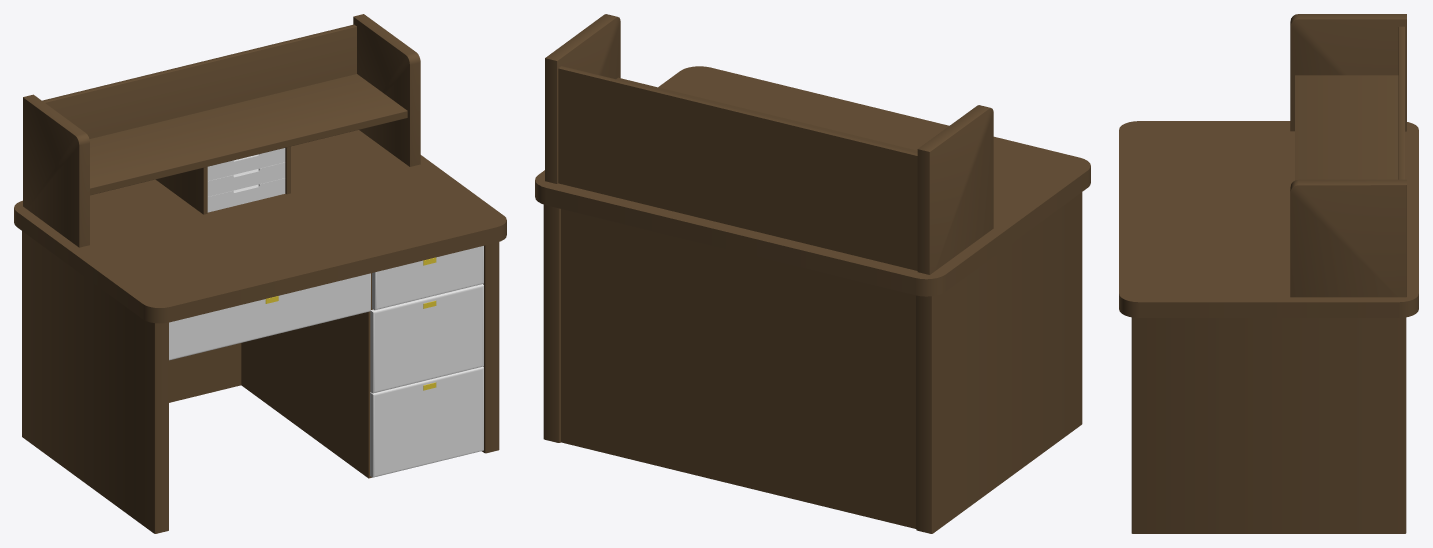
The model's file is Room_Tskue_Sakura.fbx.
3 renders of one model, left to right at view 1: azimuth 30°, elevation 25°; view 2: azimuth 150°, elevation 25°; view 3: azimuth 270°, elevation 25°, orthographic. The views are drawn at different scales.
Visible parts, largest first — view 1: sakura_tskue_main, sakura_tskue_jyobu, sakura_tskue_hikidashi.003, sakura_tskue_hikidashi.001; view 2: sakura_tskue_main, sakura_tskue_jyobu; view 3: sakura_tskue_main, sakura_tskue_jyobu.
Boxes of the visible parts, <box> form: sakura_tskue_main: <box>14,130,506,533</box>; sakura_tskue_jyobu: <box>23,14,420,247</box>; sakura_tskue_hikidashi.003: <box>169,246,483,477</box>; sakura_tskue_hikidashi.001: <box>207,148,285,212</box>; sakura_tskue_main: <box>535,66,1090,533</box>; sakura_tskue_jyobu: <box>545,14,993,274</box>; sakura_tskue_main: <box>1119,121,1418,533</box>; sakura_tskue_jyobu: <box>1290,14,1406,297</box>.
Bounding box in the file's own units: 139 × 124 × 96.86.
